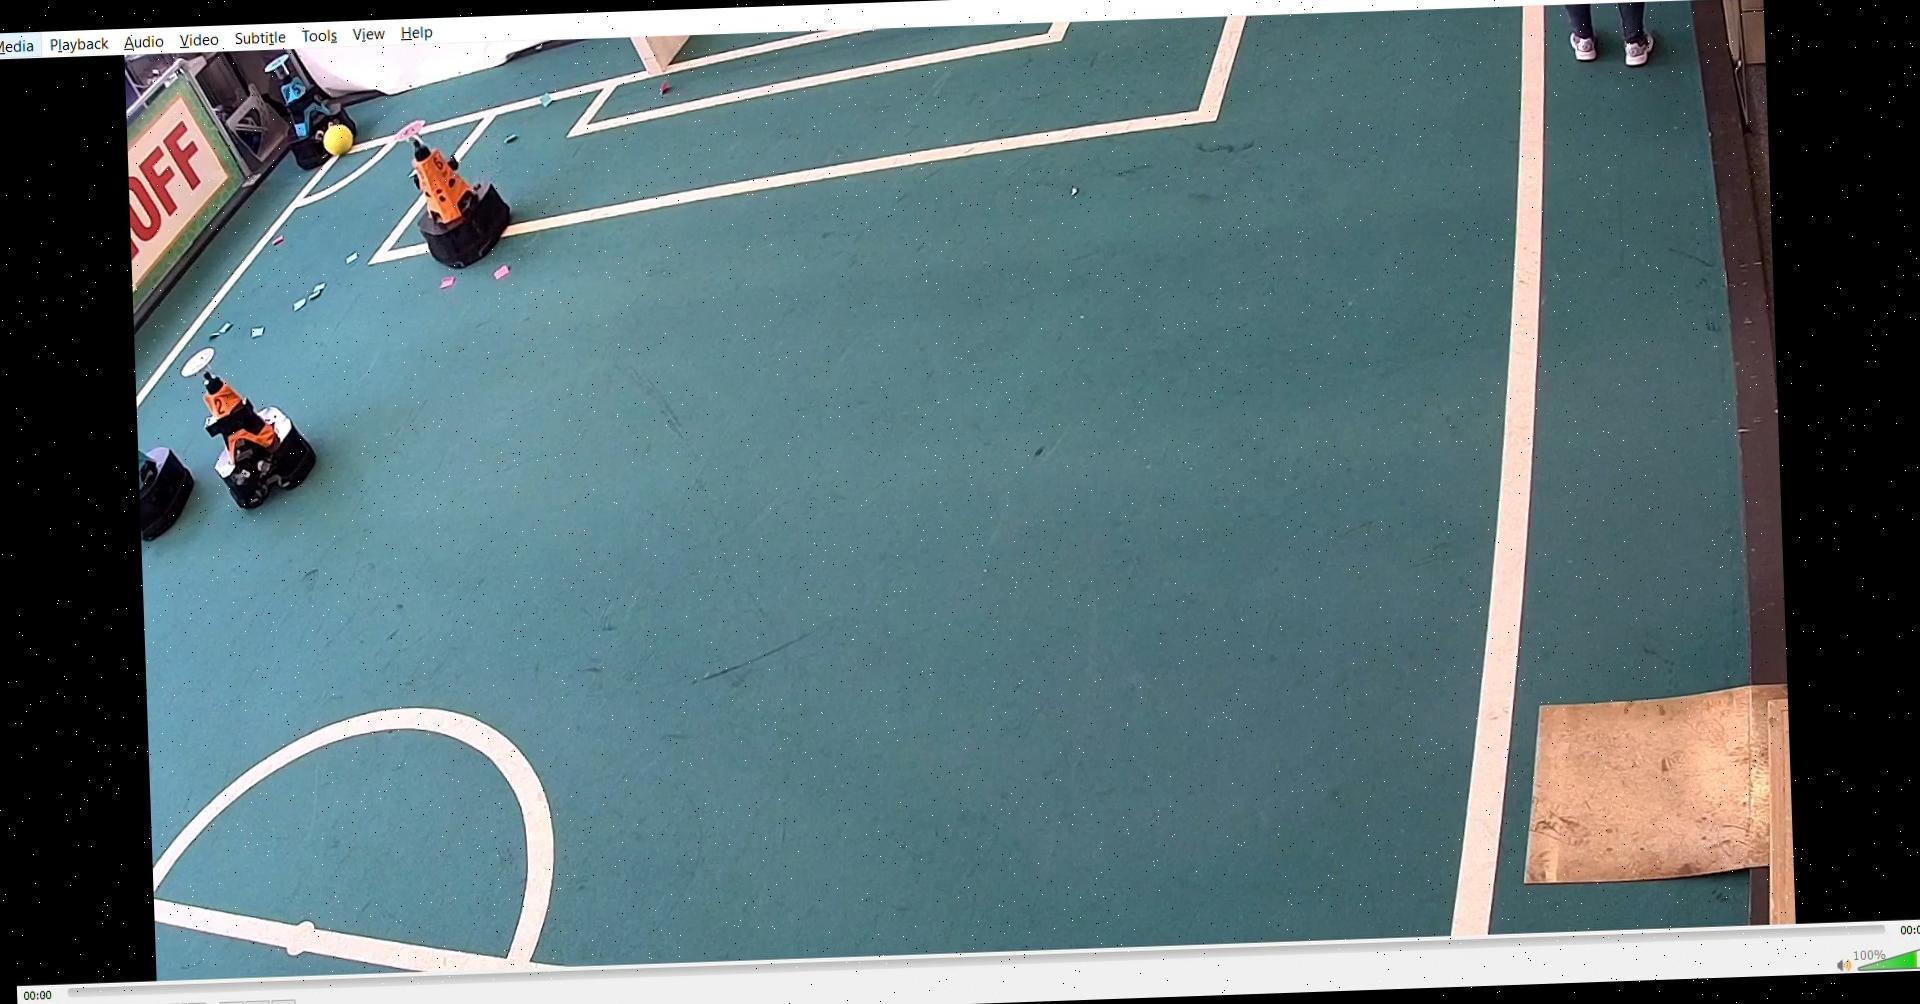Ball: (317, 119, 356, 160)
Team_Blue: (263, 48, 363, 173)
Team_Red: (177, 336, 323, 510), (392, 116, 526, 278)
